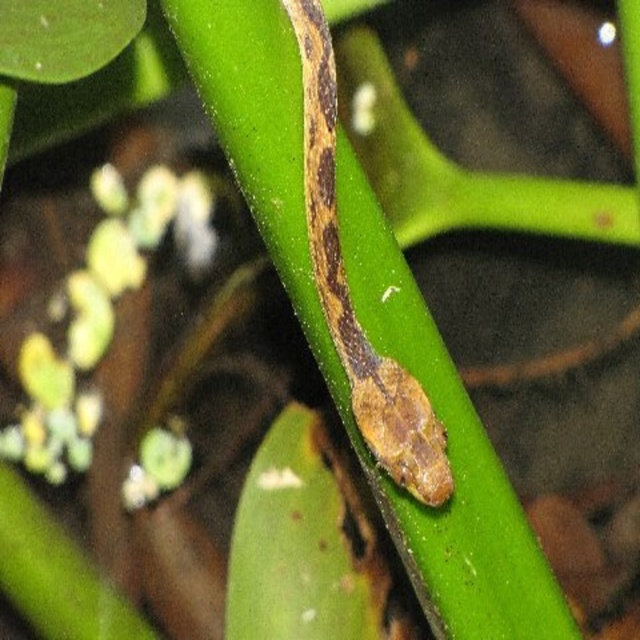Snake: (281, 0, 452, 503)
